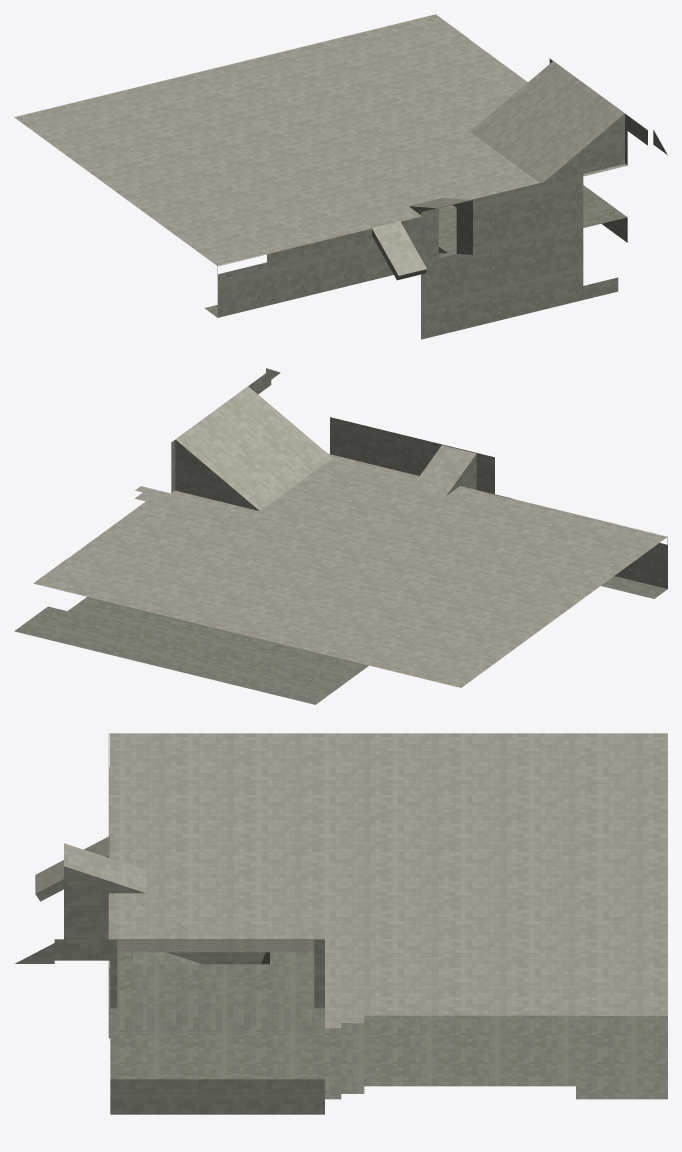
Rendered from SM_QD_Ground_CentralCourt.fbx.
3 views of the same model, one above another, from view 1: azimuth 30°, elevation 25°; view 2: azimuth 150°, elevation 25°; view 3: azimuth 270°, elevation 25° (orthographic). The views are drawn at different scales.
Visible parts, largest first — view 1: SM_QD_Ground_CentralCourt; view 2: SM_QD_Ground_CentralCourt; view 3: SM_QD_Ground_CentralCourt.
Part boxes in pixels (x1,y1,x2,y2): SM_QD_Ground_CentralCourt: [14, 14, 667, 339]; SM_QD_Ground_CentralCourt: [14, 368, 667, 704]; SM_QD_Ground_CentralCourt: [15, 733, 667, 1114].
Bounding box in the file's own units: 49.09 × 45.99 × 16.77.
Materials: 2 (2 with a texture image).
